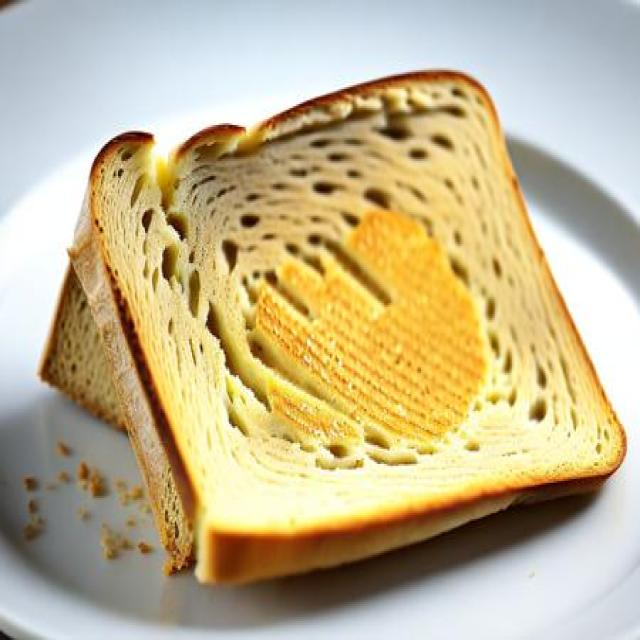Bread: (92, 73, 624, 580)
